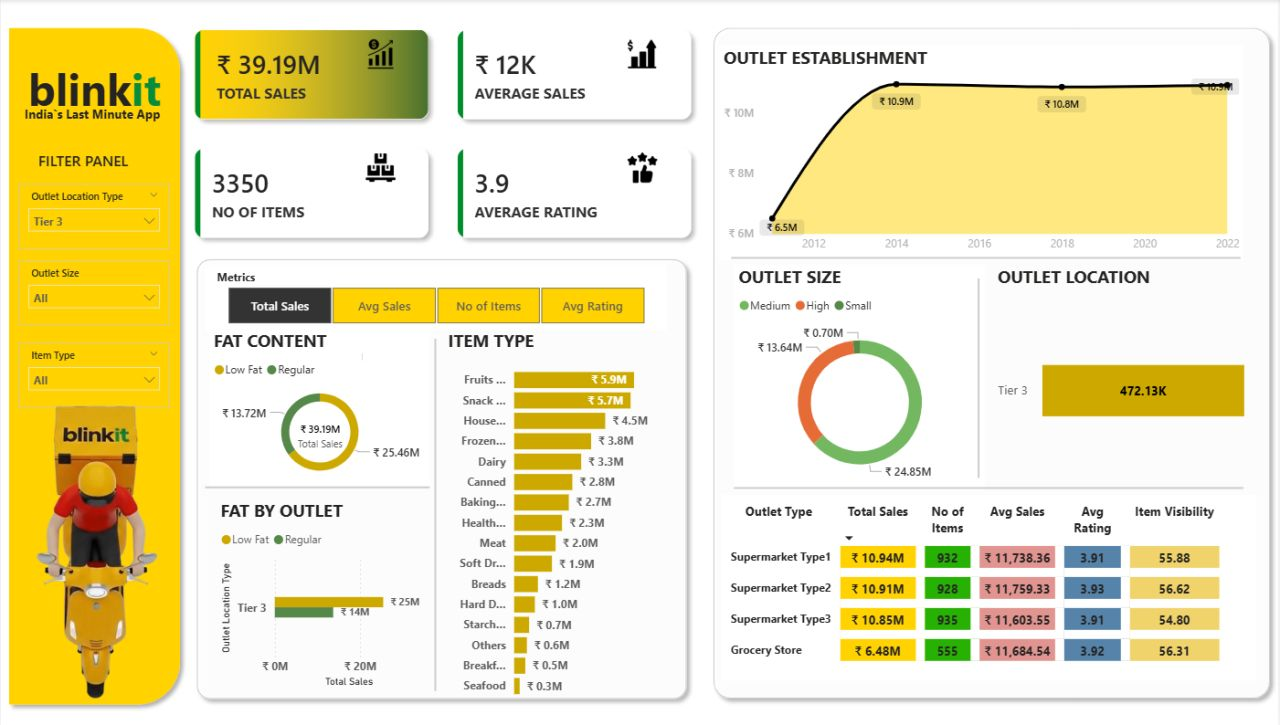

What the dashboard file says about the page in this screenshot:
{"tool":"powerbi","page":{"name":"Page 1","canvas":[1400,800],"ordinal":0},"visuals":[{"type":"shape","box":[0,23.2,205.4,760.2],"z":0},{"type":"textbox","box":[20.7,59.9,163.3,101.3],"z":1000},{"type":"textbox","box":[270.8,711,186,72.3],"z":2000},{"type":"textbox","box":[20.7,111.6,186,57.9],"z":3000},{"type":"cardVisual","fields":{"Data":["BlinkIT Grocery Data.Total Sales","BlinkIT Grocery Data.Avg Sales","BlinkIT Grocery Data.No of Items","BlinkIT Grocery Data.Avg Rating"]},"box":[183.8,5,602.8,286.5],"z":4000},{"type":"image","box":[390.9,43.1,51.3,33.1],"z":5000},{"type":"image","box":[390.9,168.9,51.3,33.1],"z":6000},{"type":"image","box":[677.4,43.1,51,33.1],"z":7000},{"type":"image","box":[677.4,168.9,51.3,33.1],"z":8000},{"type":"shape","box":[205.4,276.6,554.8,500.2],"z":9000},{"type":"donutChart","title":"FAT CONTENT","fields":{"Y":["BlinkIT Grocery Data.Total Sales"],"Category":["BlinkIT Grocery Data.Item Fat Content"]},"box":[228.6,362.7,241.8,172.2],"z":10000},{"type":"slicer","fields":{"Values":["Metrics.Metrics"]},"box":[223.6,291.5,505.1,71.2],"z":11000},{"type":"cardVisual","fields":{"Data":["BlinkIT Grocery Data.Total Sales"]},"box":[268.8,431,162.2,96.1],"z":12000},{"type":"clusteredBarChart","title":"FAT BY OUTLET","fields":{"Y":["BlinkIT Grocery Data.Total Sales"],"Category":["BlinkIT Grocery Data.Outlet Location Type"],"Series":["BlinkIT Grocery Data.Item Fat Content"]},"box":[235.2,548.2,250.1,210.3],"z":13000},{"type":"shape","box":[223.8,528.7,246.3,13.5],"z":14000},{"type":"shape","box":[470.1,372.5,12,386],"z":15000},{"type":"barChart","title":"ITEM TYPE ","fields":{"Y":["BlinkIT Grocery Data.Total Sales"],"Category":["BlinkIT Grocery Data.Item Type"]},"box":[485.3,362.7,255,414],"z":16000},{"type":"shape","box":[771.8,23.2,627.7,753.6],"z":17000},{"type":"lineChart","title":"OUTLET ESTABLISHMENT","fields":{"Category":["BlinkIT Grocery Data.Outlet Establishment Year"],"Y":["BlinkIT Grocery Data.Total Sales"]},"box":[786.7,51.3,574.7,235.2],"z":18000},{"type":"donutChart","title":"OUTLET SIZE","fields":{"Y":["BlinkIT Grocery Data.Total Sales"],"Category":["BlinkIT Grocery Data.Outlet Size"]},"box":[803.2,291.5,274.9,248.4],"z":19000},{"type":"shape","box":[1064.9,306.4,13.2,218.6],"z":20000},{"type":"funnel","title":"OUTLET LOCATION","fields":{"Category":["BlinkIT Grocery Data.Outlet Location Type"],"Y":["Sum(BlinkIT Grocery Data.Sales)"]},"box":[1088.1,291.5,284.9,250.1],"z":21000},{"type":"shape","box":[803.2,528.3,558.1,14.9],"z":22000},{"type":"pivotTable","fields":{"Rows":["BlinkIT Grocery Data.Outlet Type"],"Values":["BlinkIT Grocery Data.Total Sales","BlinkIT Grocery Data.No of Items","BlinkIT Grocery Data.Avg Sales","BlinkIT Grocery Data.Avg Rating","Sum(BlinkIT Grocery Data.Item Visibility)"]},"box":[790,543.2,586.3,203.7],"z":23000},{"type":"shape","box":[799.9,276.6,558.1,14.9],"z":24000},{"type":"slicer","fields":{"Values":["BlinkIT Grocery Data.Outlet Location Type"]},"box":[19.9,202.1,165.6,71.2],"z":25000},{"type":"slicer","fields":{"Values":["BlinkIT Grocery Data.Outlet Size"]},"box":[19.9,286.5,165.6,71.2],"z":26000},{"type":"slicer","fields":{"Values":["BlinkIT Grocery Data.Item Type"]},"box":[19.9,377.6,165.6,71.2],"z":27000},{"type":"textbox","box":[390.5,383,10.5,18],"z":28000},{"type":"textbox","box":[36.4,160.6,132.5,46.4],"z":29000},{"type":"image","box":[0,383,205.8,399.5],"z":30000}]}

Visuals, with their boxes in screenshot pixels (x1, y1, x2, y2), scaled from the page's 1400x800 canvas onto the 1280x725 screenshot:
shape: <region>0, 21, 188, 710</region>
textbox: <region>19, 54, 168, 146</region>
textbox: <region>248, 644, 418, 710</region>
textbox: <region>19, 101, 189, 154</region>
cardVisual - BlinkIT Grocery Data.Total Sales x BlinkIT Grocery Data.Avg Sales: <region>168, 5, 719, 264</region>
image: <region>357, 39, 404, 69</region>
image: <region>357, 153, 404, 183</region>
image: <region>619, 39, 666, 69</region>
image: <region>619, 153, 666, 183</region>
shape: <region>188, 251, 695, 704</region>
"FAT CONTENT" donutChart: <region>209, 329, 430, 485</region>
slicer - Metrics.Metrics: <region>204, 264, 666, 329</region>
cardVisual - BlinkIT Grocery Data.Total Sales: <region>246, 391, 394, 478</region>
"FAT BY OUTLET" clusteredBarChart: <region>215, 497, 444, 687</region>
shape: <region>205, 479, 430, 491</region>
shape: <region>430, 338, 441, 687</region>
"ITEM TYPE " barChart: <region>444, 329, 677, 704</region>
shape: <region>706, 21, 1279, 704</region>
"OUTLET ESTABLISHMENT" lineChart: <region>719, 46, 1245, 260</region>
"OUTLET SIZE" donutChart: <region>734, 264, 986, 489</region>
shape: <region>974, 278, 986, 476</region>
"OUTLET LOCATION" funnel: <region>995, 264, 1255, 491</region>
shape: <region>734, 479, 1245, 492</region>
pivotTable - BlinkIT Grocery Data.Outlet Type x BlinkIT Grocery Data.Total Sales: <region>722, 492, 1258, 677</region>
shape: <region>731, 251, 1242, 264</region>
slicer - BlinkIT Grocery Data.Outlet Location Type: <region>18, 183, 170, 248</region>
slicer - BlinkIT Grocery Data.Outlet Size: <region>18, 260, 170, 324</region>
slicer - BlinkIT Grocery Data.Item Type: <region>18, 342, 170, 407</region>
textbox: <region>357, 347, 367, 363</region>
textbox: <region>33, 146, 154, 188</region>
image: <region>0, 347, 188, 709</region>
